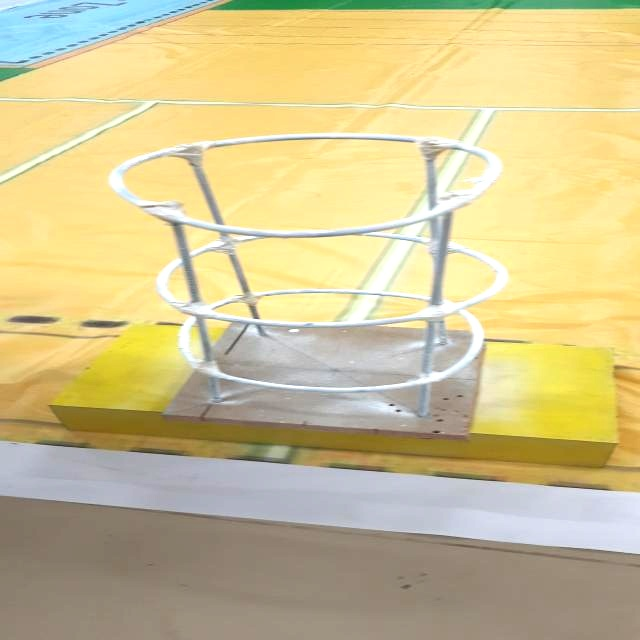silo: (64, 122, 552, 456)
